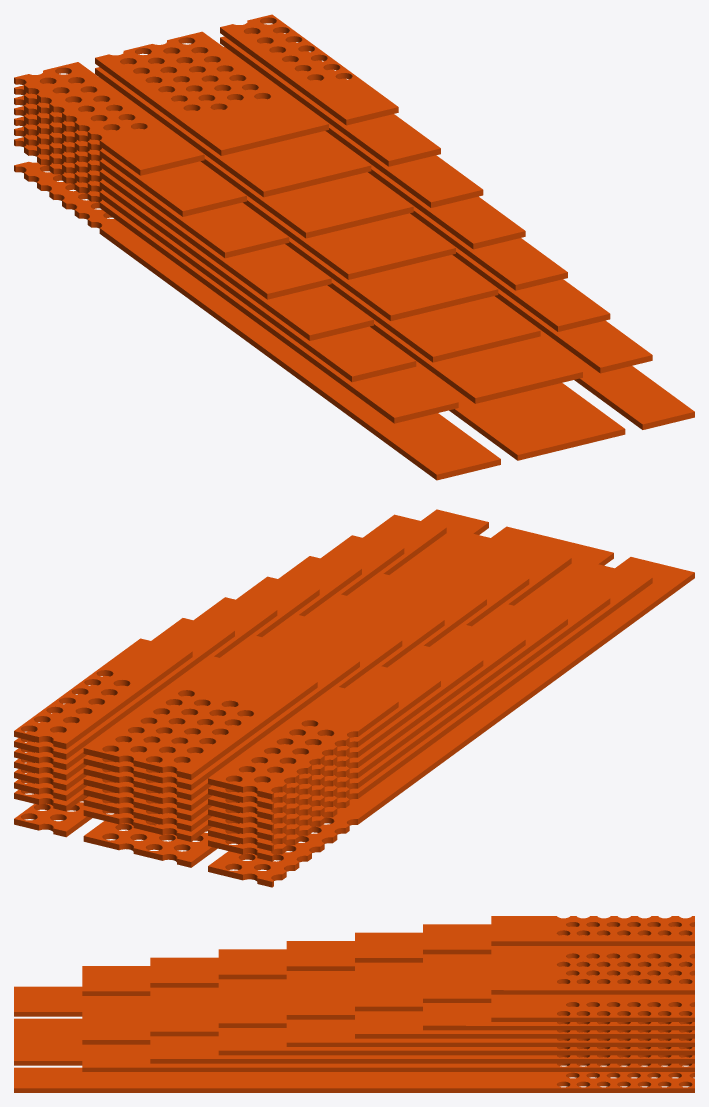
Rendered from NitrideSteps.fbx.
3 views of the same model, one above another, from view 1: azimuth 30°, elevation 25°; view 2: azimuth 150°, elevation 25°; view 3: azimuth 270°, elevation 25° (orthographic). The views are drawn at different scales.
Parts seen in each view (by area): view 1: NitrideSteps; view 2: NitrideSteps; view 3: NitrideSteps.
Part boxes in pixels (x1,y1,x2,y2): NitrideSteps: (14,14,694,480); NitrideSteps: (14,509,694,887); NitrideSteps: (14,916,694,1092).
Size of the model in its own units: 4.52 by 1.57 by 12.81.
